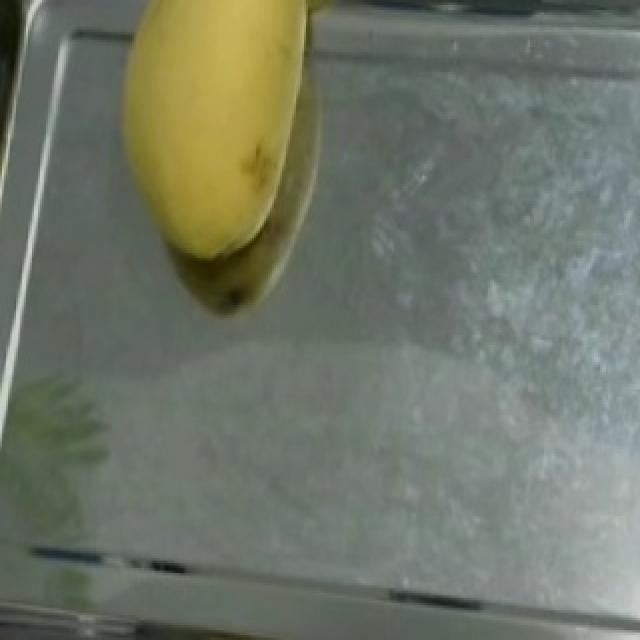fruit: (84, 0, 348, 285)
